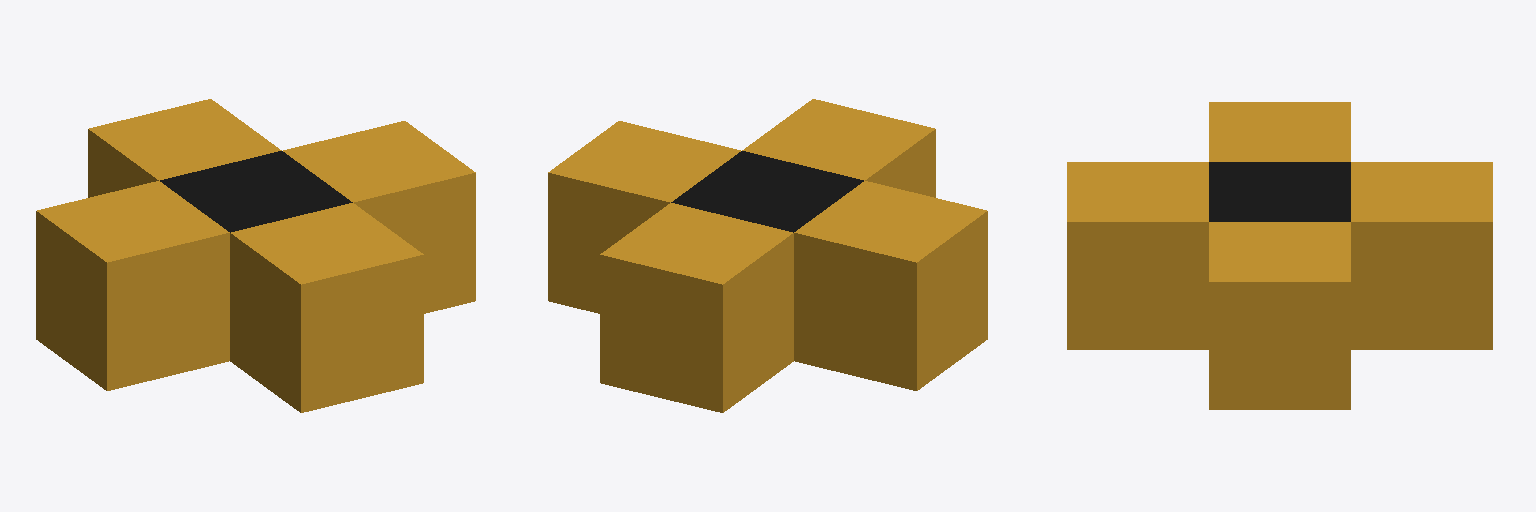
3 renders of one model, left to right at view 1: azimuth 30°, elevation 25°; view 2: azimuth 150°, elevation 25°; view 3: azimuth 270°, elevation 25°, orthographic.
Parts seen in each view (by area): view 1: PlumpStandardMushroom_18; view 2: PlumpStandardMushroom_18; view 3: PlumpStandardMushroom_18.
Boxes of the visible parts, x1,y1,x2,y2 form: PlumpStandardMushroom_18: [36, 99, 475, 412]; PlumpStandardMushroom_18: [548, 99, 987, 412]; PlumpStandardMushroom_18: [1067, 102, 1492, 409].
Bounding box in the file's own units: 3 × 1 × 3.
1 materials, 1 textured.